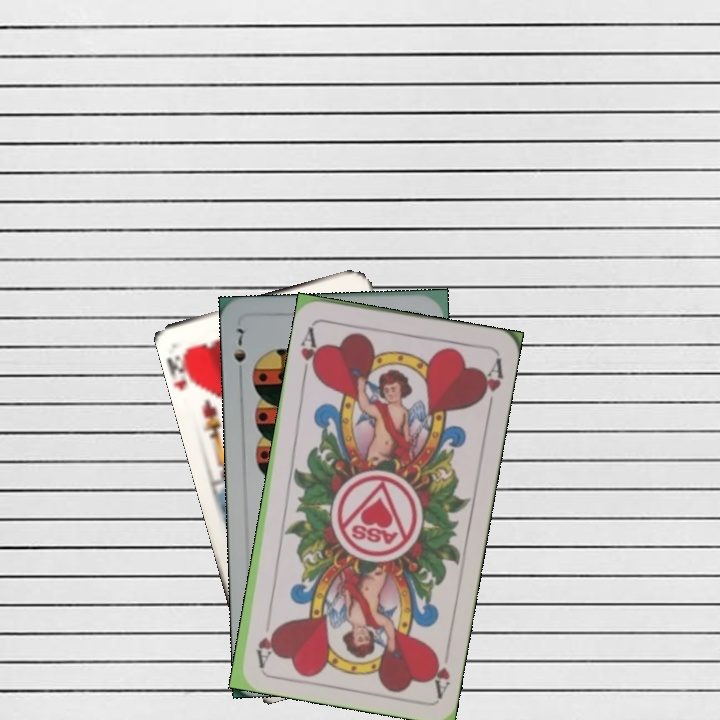HA: (296, 321, 323, 380), (426, 639, 453, 698)
HK: (166, 343, 203, 393)
S7: (230, 323, 248, 381)
